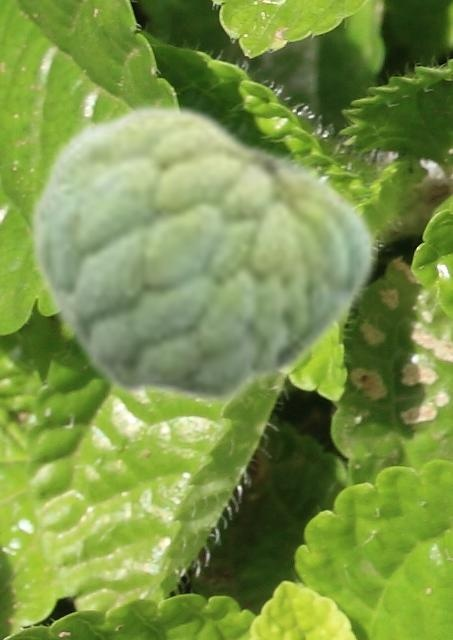atis: (25, 99, 376, 409)
